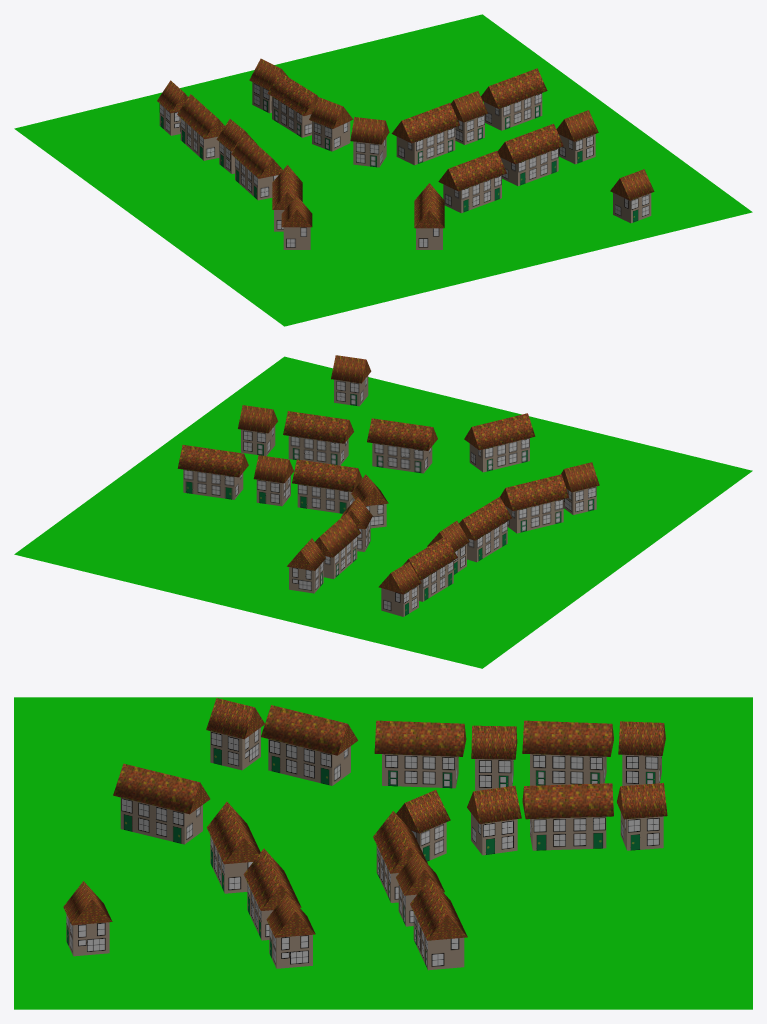
File: town.glb
3 views of the same model, one above another, from view 1: azimuth 30°, elevation 25°; view 2: azimuth 150°, elevation 25°; view 3: azimuth 270°, elevation 25° (orthographic). The views are drawn at different scales.
Visible parts, largest first — view 1: ground, box_merged (×2), house6, house2, house4, house9, house11, house13, house0, house8, house3, house7 (+6 smaller); view 2: ground, box_merged (×2), house2, house4, house3, house6, house15, house11, house13, house9, house5, house0 (+6 smaller); view 3: ground, house3, house15, house9, house11, house13, box_merged (×2), house4, house16, house2, house8, house10 (+6 smaller).
Part boxes in pixels (x1,y1,x2,y2): ground: (14,14,752,326); box_merged (×2): (497,110,598,185); house6: (391,103,459,165); house2: (438,151,506,213); house4: (481,68,547,130); house9: (267,72,318,137); house11: (231,134,282,200); house13: (177,94,224,160); house0: (610,169,654,223); house8: (309,97,353,151); house3: (414,183,444,249); house7: (350,117,389,167); ground: (14,356,752,668); box_merged (×2): (238,405,353,465); house2: (367,418,437,473); house4: (177,445,248,499); house3: (464,413,535,472); house6: (292,459,362,513); house15: (500,474,568,533); house11: (459,496,511,562); house13: (403,536,457,601); house9: (315,512,360,579); house5: (253,455,293,506); house0: (331,355,371,406); ground: (14,697,752,1009); house3: (113,763,210,844); house15: (261,705,357,785); house9: (522,783,613,850); house11: (374,720,466,788); house13: (522,720,613,785); box_merged (×2): (243,848,315,968); house4: (410,878,467,970); house16: (206,698,264,770); house2: (206,801,260,893); house8: (467,785,521,855); house10: (617,783,667,850).
Size of the model in its own units: 20 by 1.71 by 20.
Materials: 5 (4 with a texture image).
